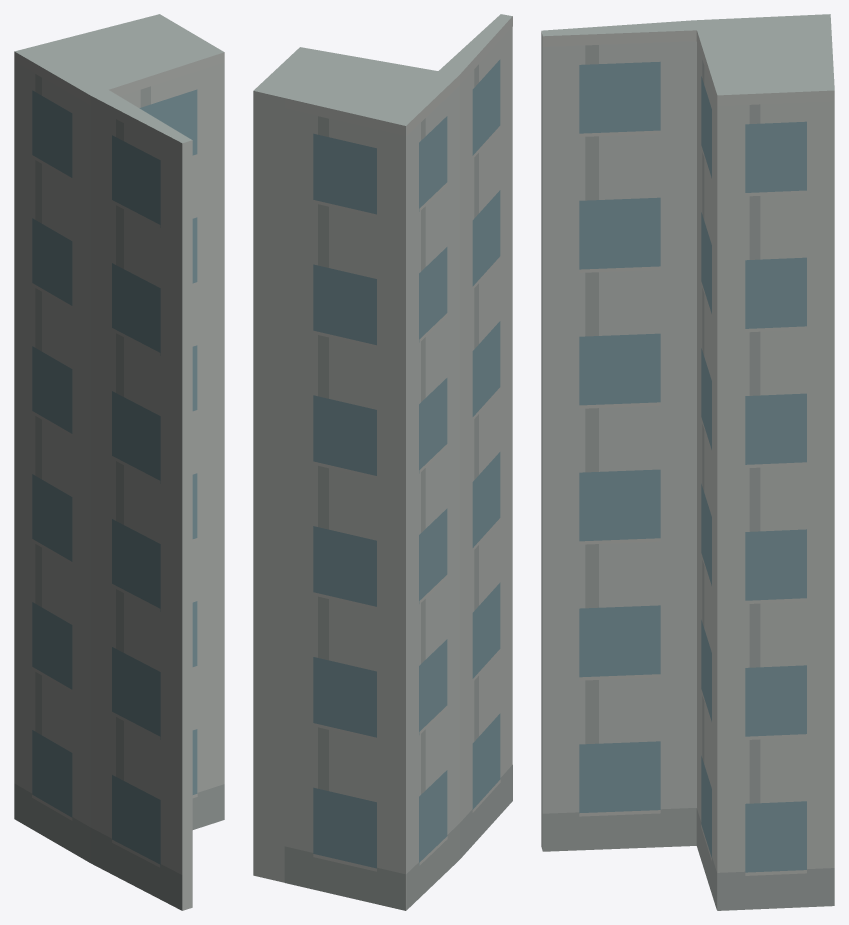
Rendered from survey-upis-32488437.glb.
3 views of the same model, side by side, from view 1: azimuth 30°, elevation 25°; view 2: azimuth 150°, elevation 25°; view 3: azimuth 270°, elevation 25° (orthographic). The views are drawn at different scales.
Parts seen in each view (by area): view 1: survey-upis-32488437.tmp; view 2: survey-upis-32488437.tmp; view 3: survey-upis-32488437.tmp.
Boxes of the visible parts, x1,y1,x2,y2 form: survey-upis-32488437.tmp: [14, 14, 224, 910]; survey-upis-32488437.tmp: [253, 14, 512, 910]; survey-upis-32488437.tmp: [541, 14, 834, 910].
Bounding box in the file's own units: 3.93 × 18.3 × 5.97.
